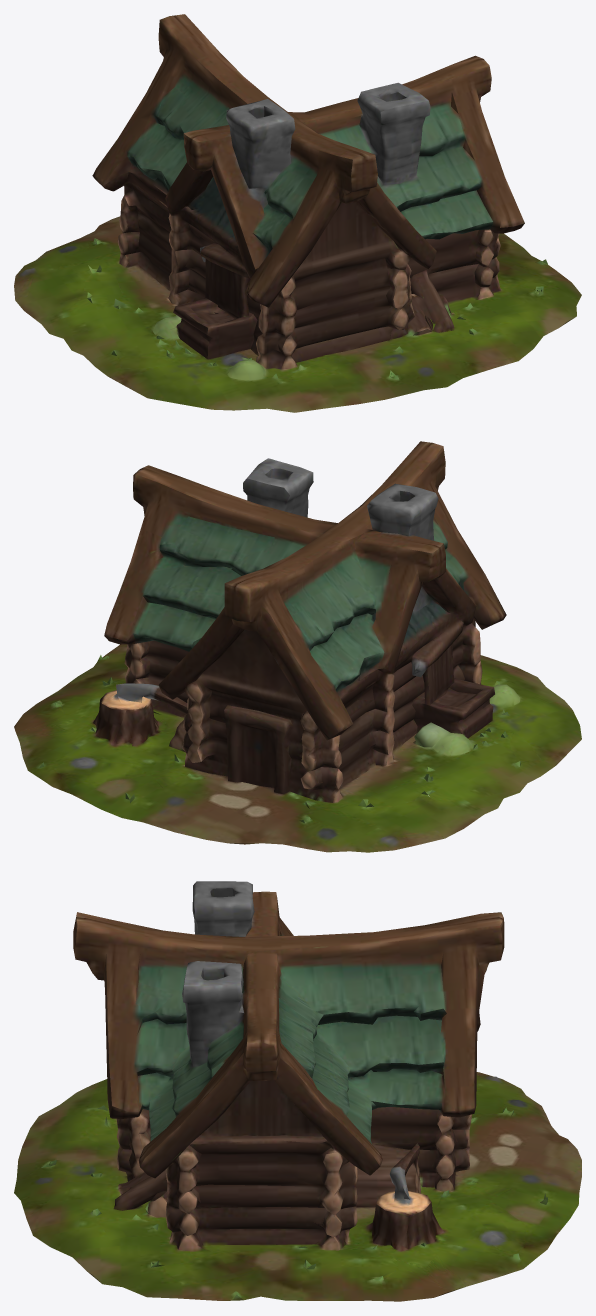
File: village_forest_b.glb
3 renders of one model, top to bottom at view 1: azimuth 30°, elevation 25°; view 2: azimuth 150°, elevation 25°; view 3: azimuth 270°, elevation 25°, orthographic. The views are drawn at different scales.
Parts seen in each view (by area): view 1: world; view 2: world; view 3: world.
Boxes of the visible parts, bbox=[...] form: world: bbox=[14, 14, 581, 412]; world: bbox=[14, 441, 581, 852]; world: bbox=[14, 881, 581, 1301].
Bounding box in the file's own units: 0.9882 × 0.491 × 0.9865.
1 material, 1 textured.
